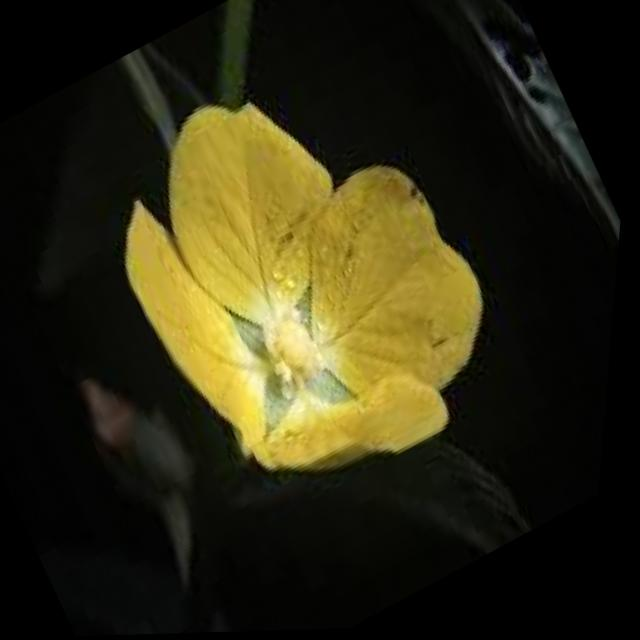Flower: (53, 12, 564, 545)
